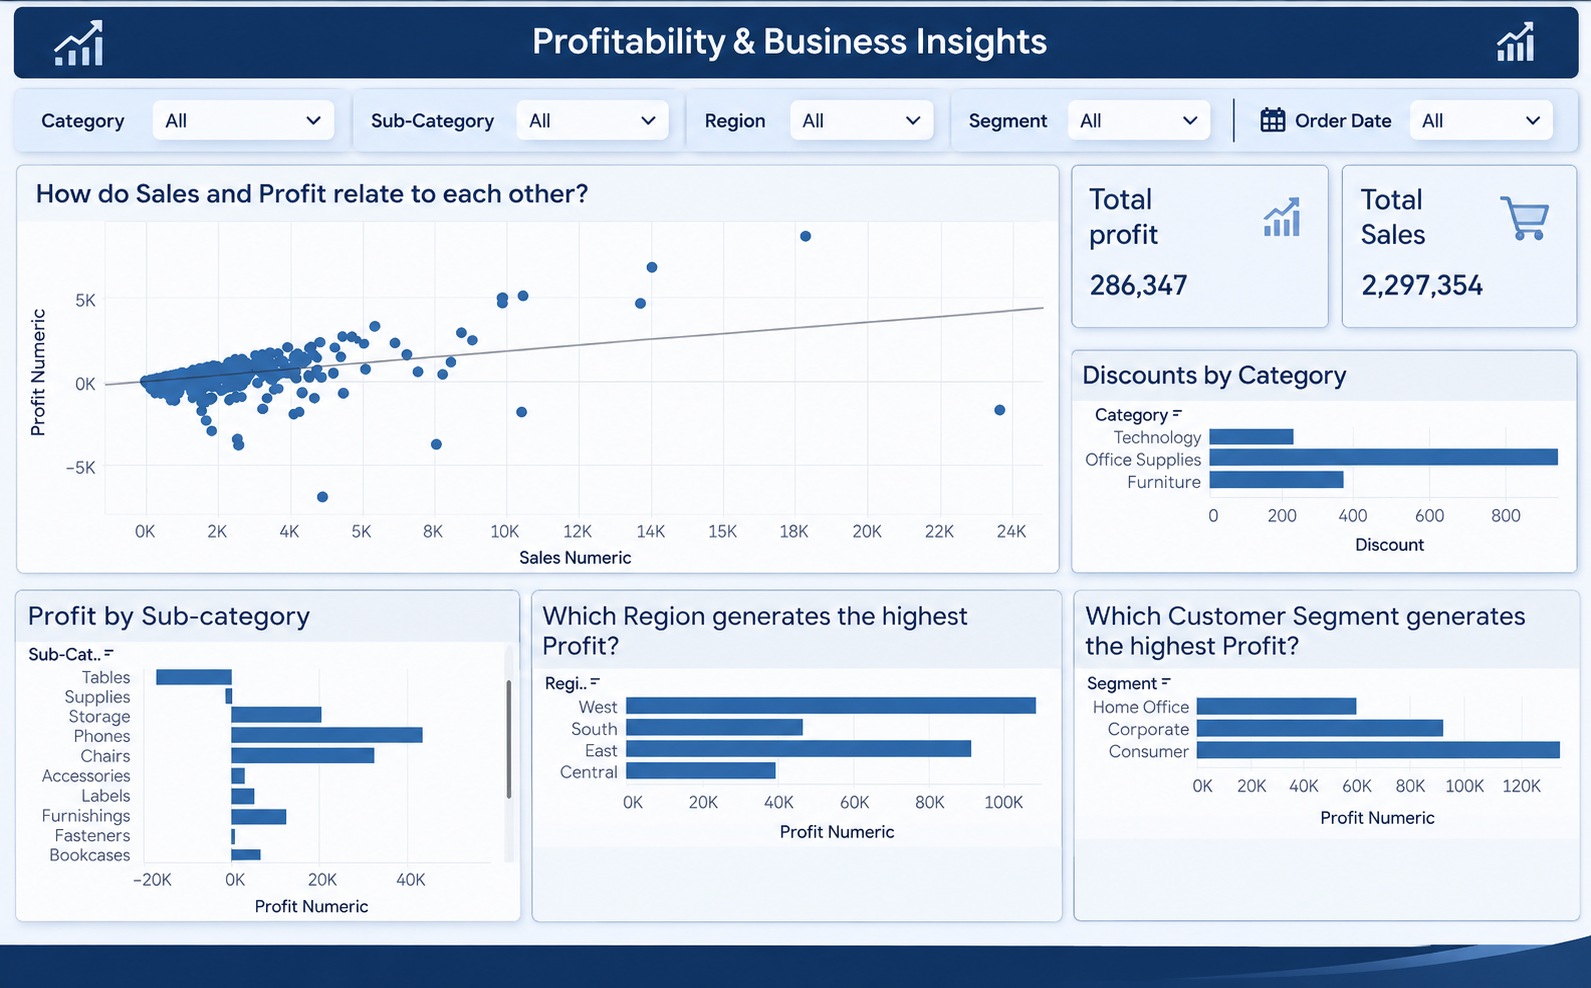

The page's visual inventory and layout, read from the dashboard file:
{"tool":"tableau","page":{"name":"Profitability & Business Insights","canvas":[1000,1000],"units":"permille","ordinal":0},"visuals":[{"type":"title","box":[6.4,9.4,987.3,58.8]},{"type":"worksheet","title":"Sheet 1","mark":"Automatic","box":[679.4,89.3,152.7,158.6]},{"type":"worksheet","title":"Sheet 2","mark":"Automatic","box":[840.1,89.3,148,157.5]},{"type":"worksheet","title":"Sheet 19","mark":"Circle","rows":["Calculation_585467997247057922"],"cols":["Calculation_585467997247004673"],"box":[1.2,93.6,665.7,515.6]},{"type":"worksheet","title":"Sheet 22","mark":"Automatic","rows":["Category"],"cols":["Discount"],"box":[669.9,276.2,333.3,323.2]},{"type":"worksheet","title":"Sheet 21","mark":"Automatic","rows":["Sub-Category"],"cols":["Calculation_585467997247057922"],"box":[1.6,612.2,320.6,386.6]},{"type":"worksheet","title":"Sheet 14","mark":"Automatic","rows":["Region"],"cols":["Calculation_585467997247057922"],"box":[329.4,613.4,334.1,386.6]},{"type":"worksheet","title":"Sheet 16","mark":"Automatic","rows":["Segment"],"cols":["Calculation_585467997247057922"],"box":[666.7,614.6,329.4,381.9]}]}

Visuals, with their boxes on the dashboard's canvas, which has no fixed pixel size, in thousandths of its width and height (x1, y1, x2, y2). These are canvas units, not pixel positions in the 1591x988 screenshot, which may show the page scaled, cropped or inside an application window:
title: select_region(6, 9, 994, 68)
"Sheet 1" worksheet: select_region(679, 89, 832, 248)
"Sheet 2" worksheet: select_region(840, 89, 988, 247)
"Sheet 19" worksheet (Circle marks): select_region(1, 94, 667, 609)
"Sheet 22" worksheet: select_region(670, 276, 1003, 599)
"Sheet 21" worksheet: select_region(2, 612, 322, 999)
"Sheet 14" worksheet: select_region(329, 613, 664, 1000)
"Sheet 16" worksheet: select_region(667, 615, 996, 996)
